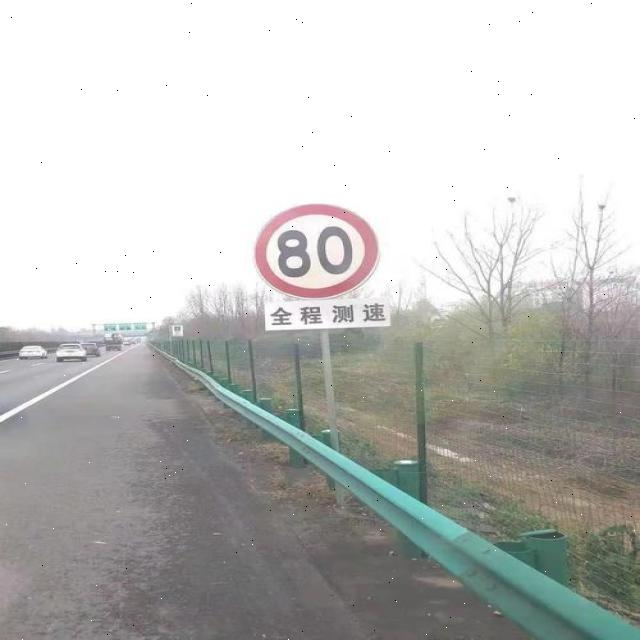speed limit 80: (251, 205, 379, 299)
